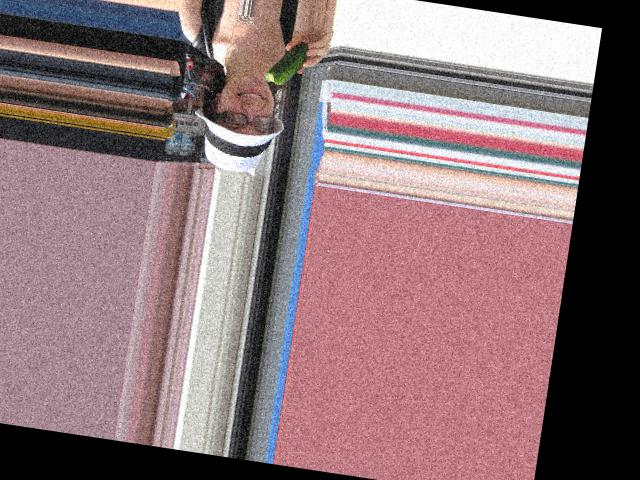cucumber: (264, 37, 310, 88)
